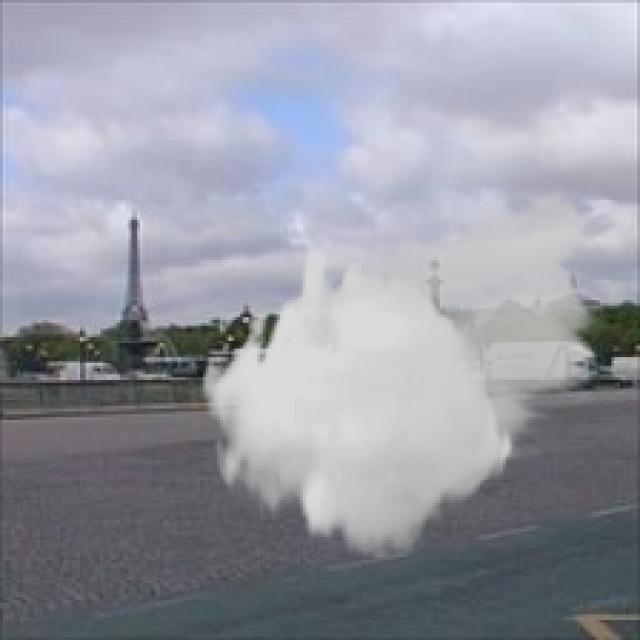Smoke: (200, 177, 609, 557)
